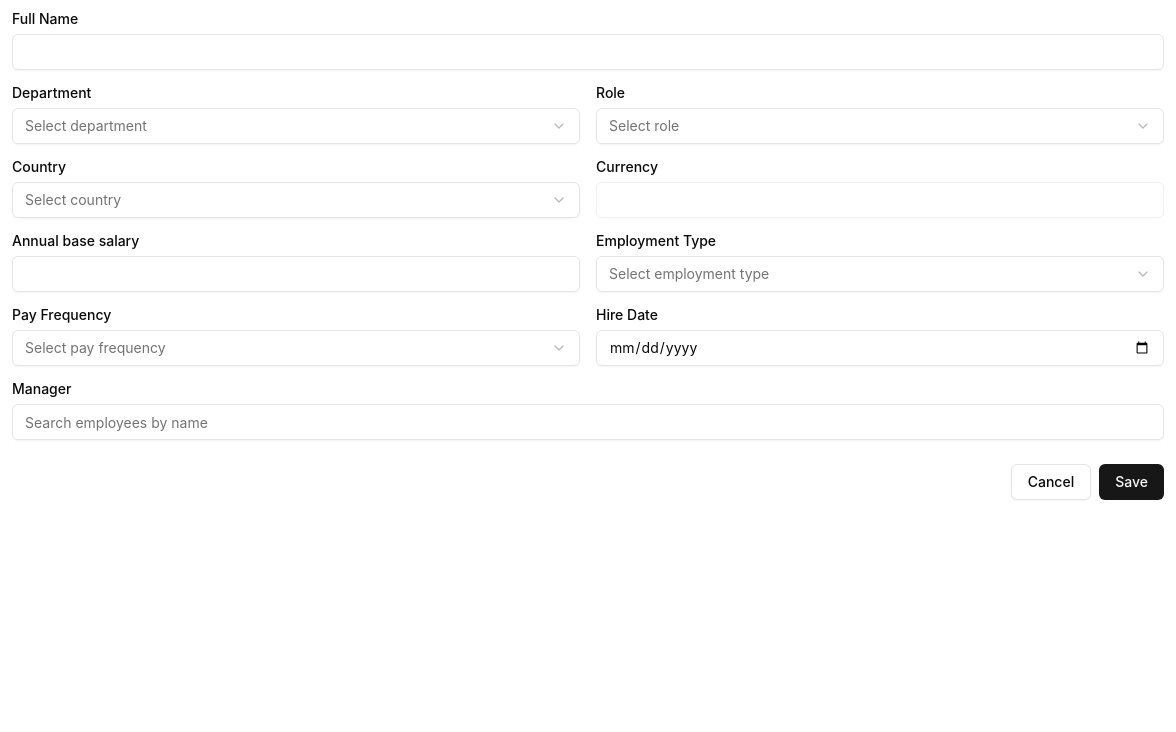
Scenario: EmployeeForm › shows inline errors for required fields left blank on submit
Click the button "Save" at (1132, 482), box [1099, 464, 1164, 500]
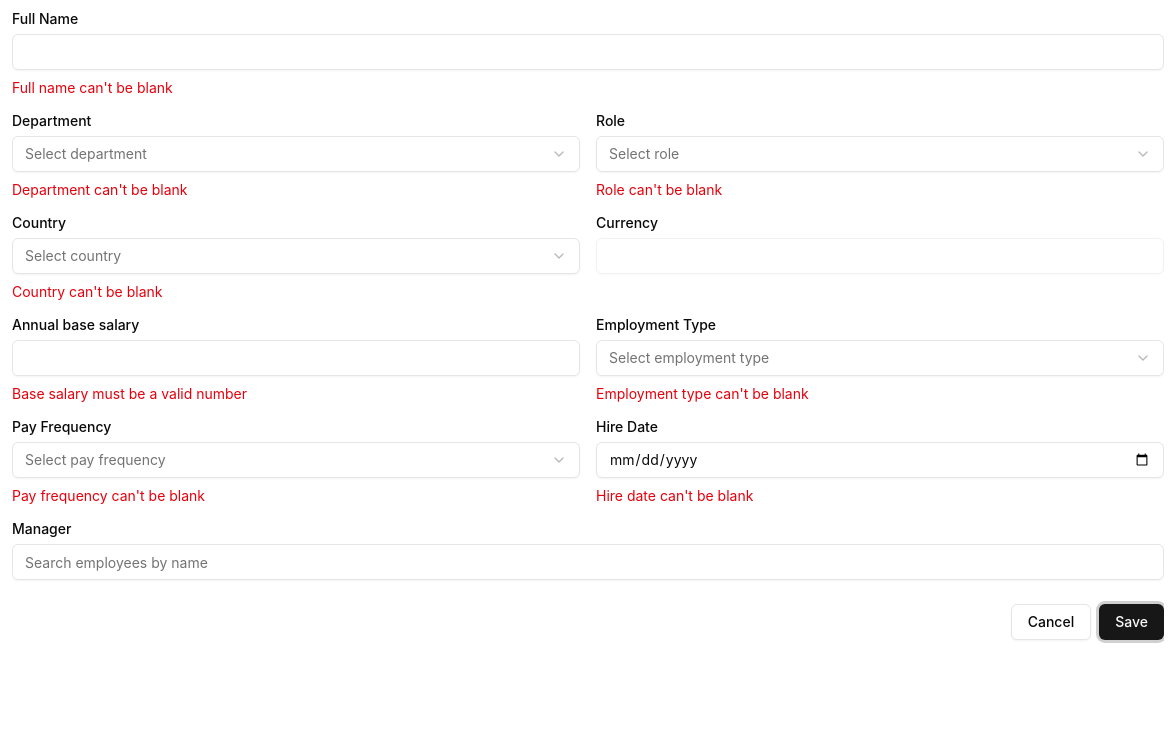
Result: the text "Full name can't be blank" is shown at [12, 79, 173, 96]
